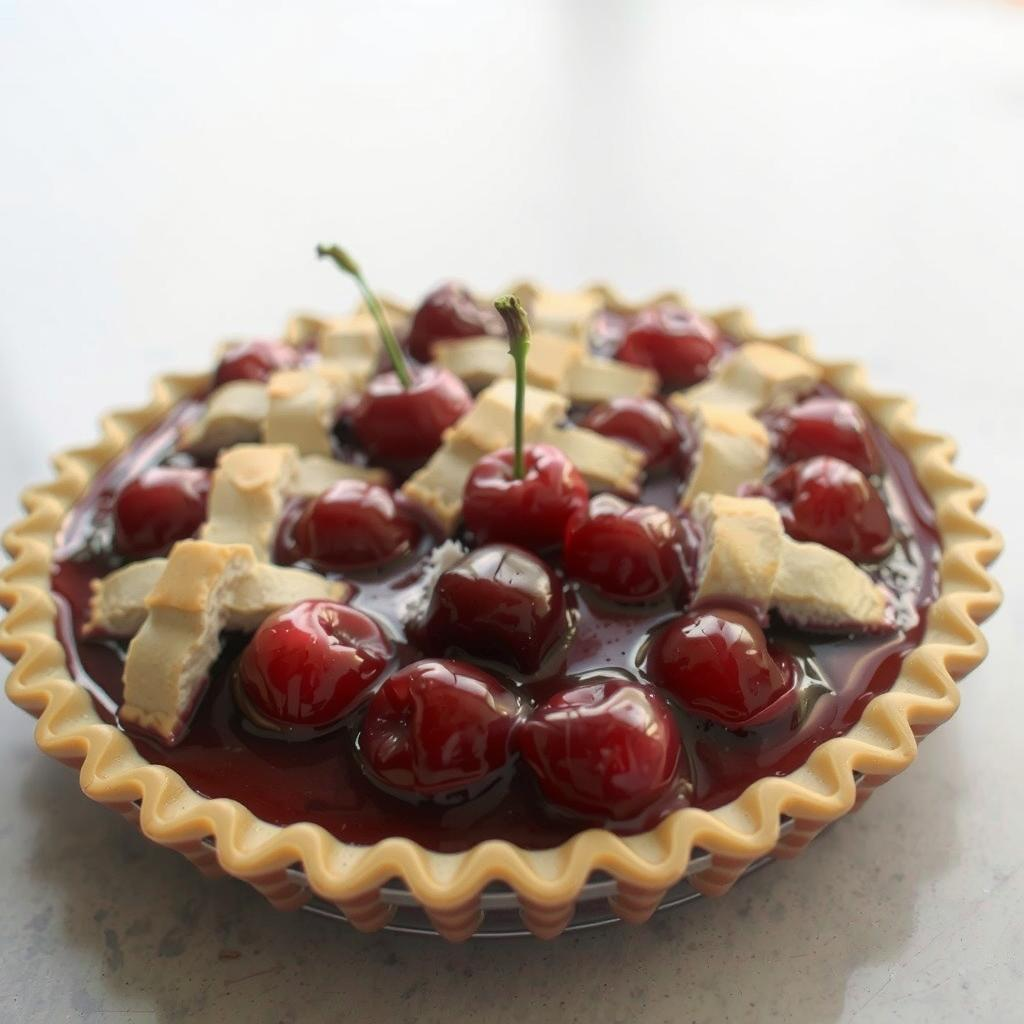pie: (0, 270, 1024, 964)
